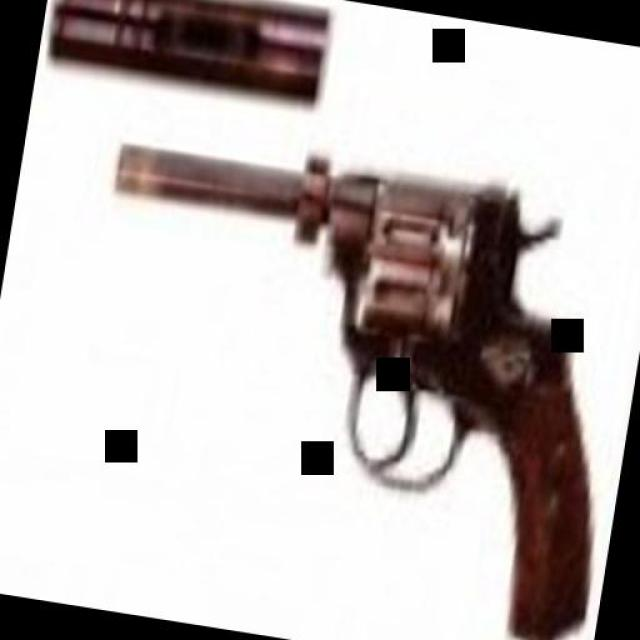gun: (52, 109, 640, 640)
